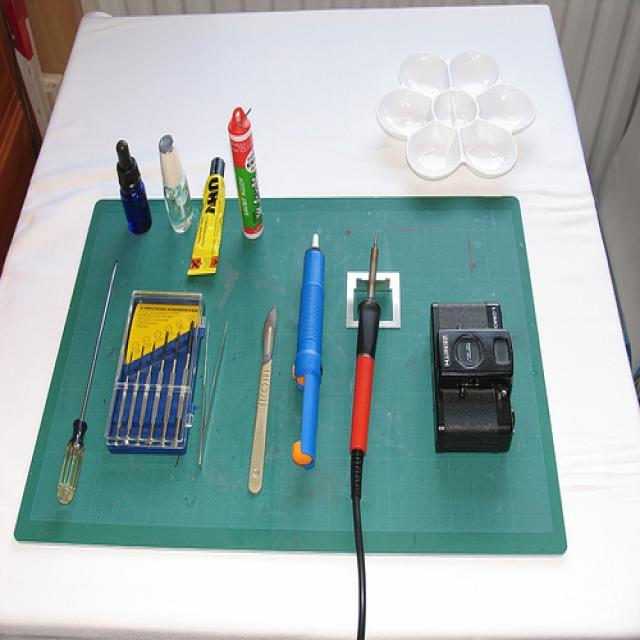screwdriver: (46, 240, 130, 521)
